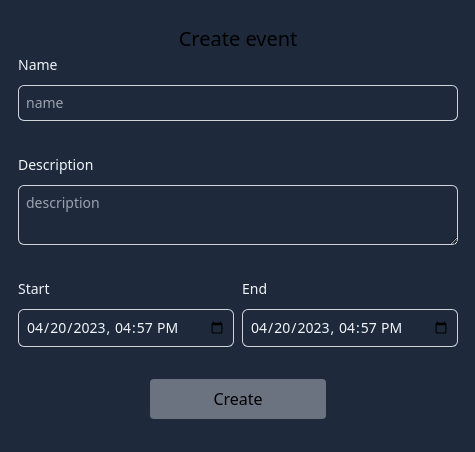
Test: Create Event › with invalid input › shows an error message when start date is before now
The image size is (475, 452).
Type "Test Event" into the field labelled "Name" at (238, 103), box [18,85,458,121]
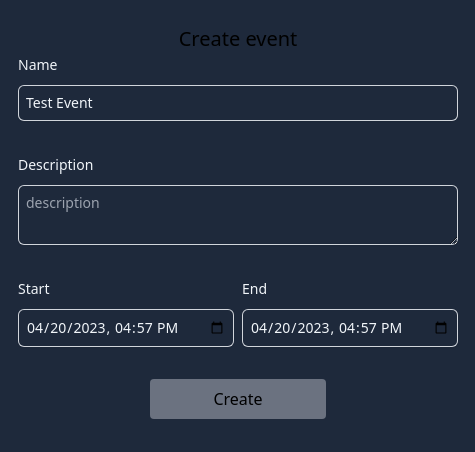
Type "Test Description" into the text box labelled "Description" at (238, 215), box [18,185,458,245]
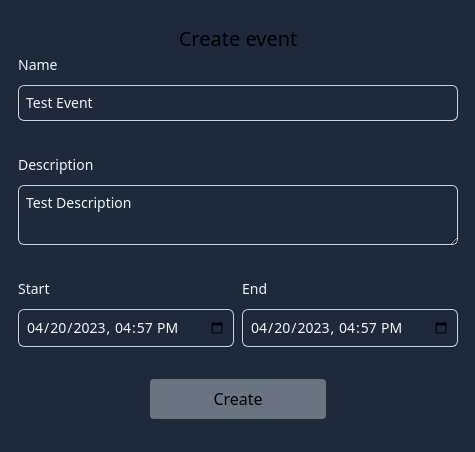
Replace the text in the field labelled "Start" with "2021-09-01T09:00" at (126, 328), box [18,309,234,347]
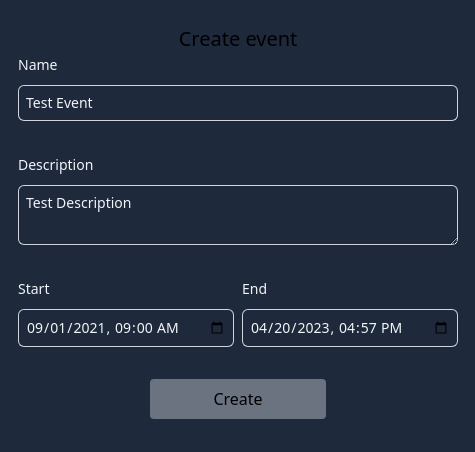
Replace the text in the field labelled "End" with "2021-09-01T10:00" at (350, 328), box [242,309,458,347]
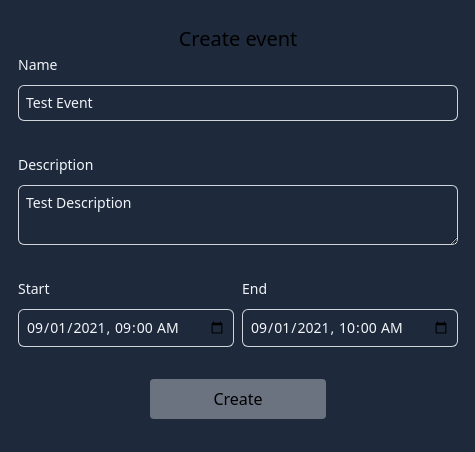
Submit the form from the button, box [150,379,326,419]
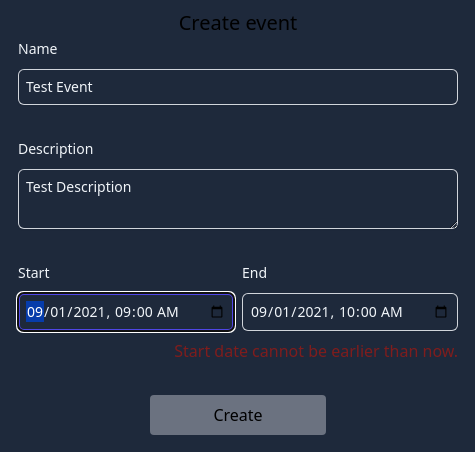
Check: the button is disabled, box [150,395,326,435]
Check: the text with test id "error-start" reads "Start date cannot be earlier than now.", box [174,340,458,362]
